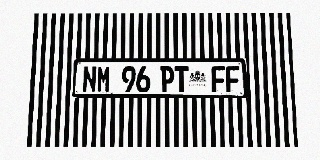6: (136, 66, 150, 92)
9: (122, 66, 136, 92)
F: (211, 66, 226, 92), (225, 66, 240, 92)
M: (96, 66, 111, 92)
N: (82, 66, 97, 92)
P: (160, 66, 174, 92)
T: (175, 66, 189, 92)
